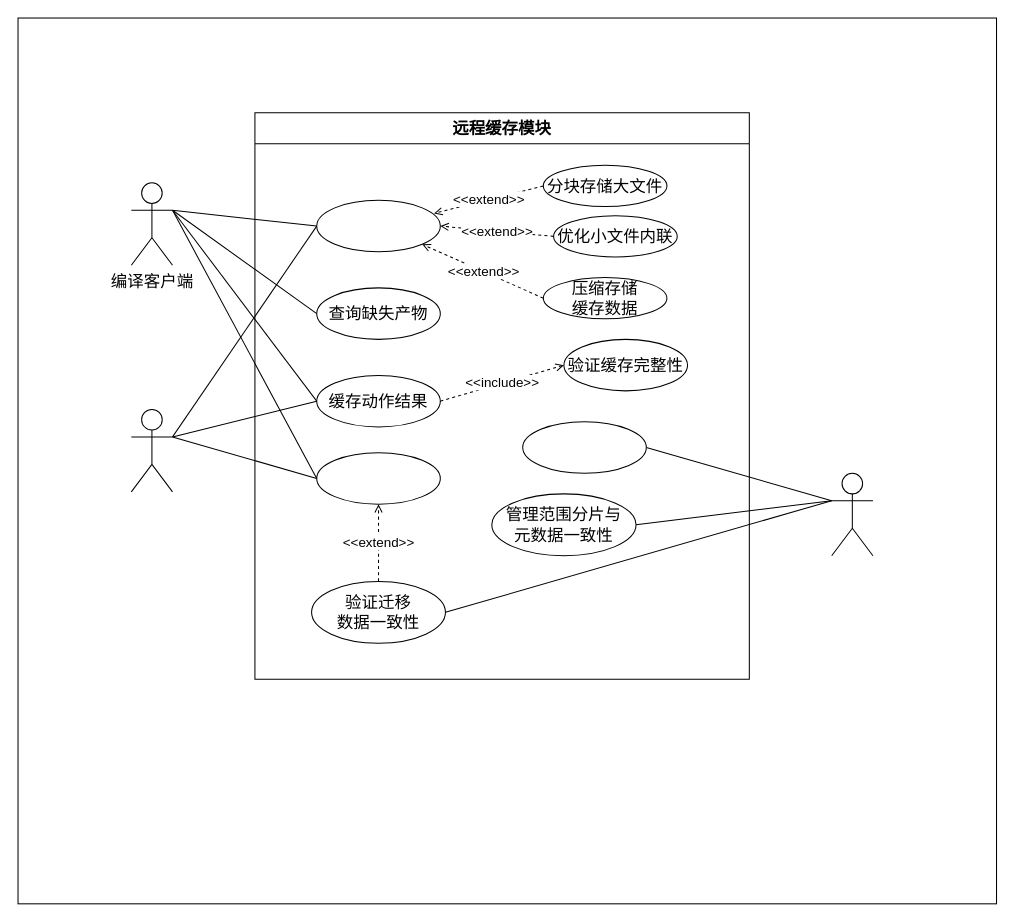
Image size: 1015x922. Some labels were removed from this diagram. Each missing label, with the centre of its shape:
存储构建产物: (x=378, y=225)
执行采样 淘汰策略: (x=584, y=447)
检索构建产物: (x=378, y=478)
缓存系统服务: (x=852, y=514)
缓存节点: (x=151, y=450)
